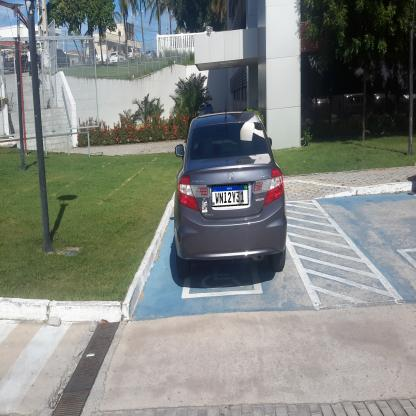PlacaM: (212, 184, 249, 207)
